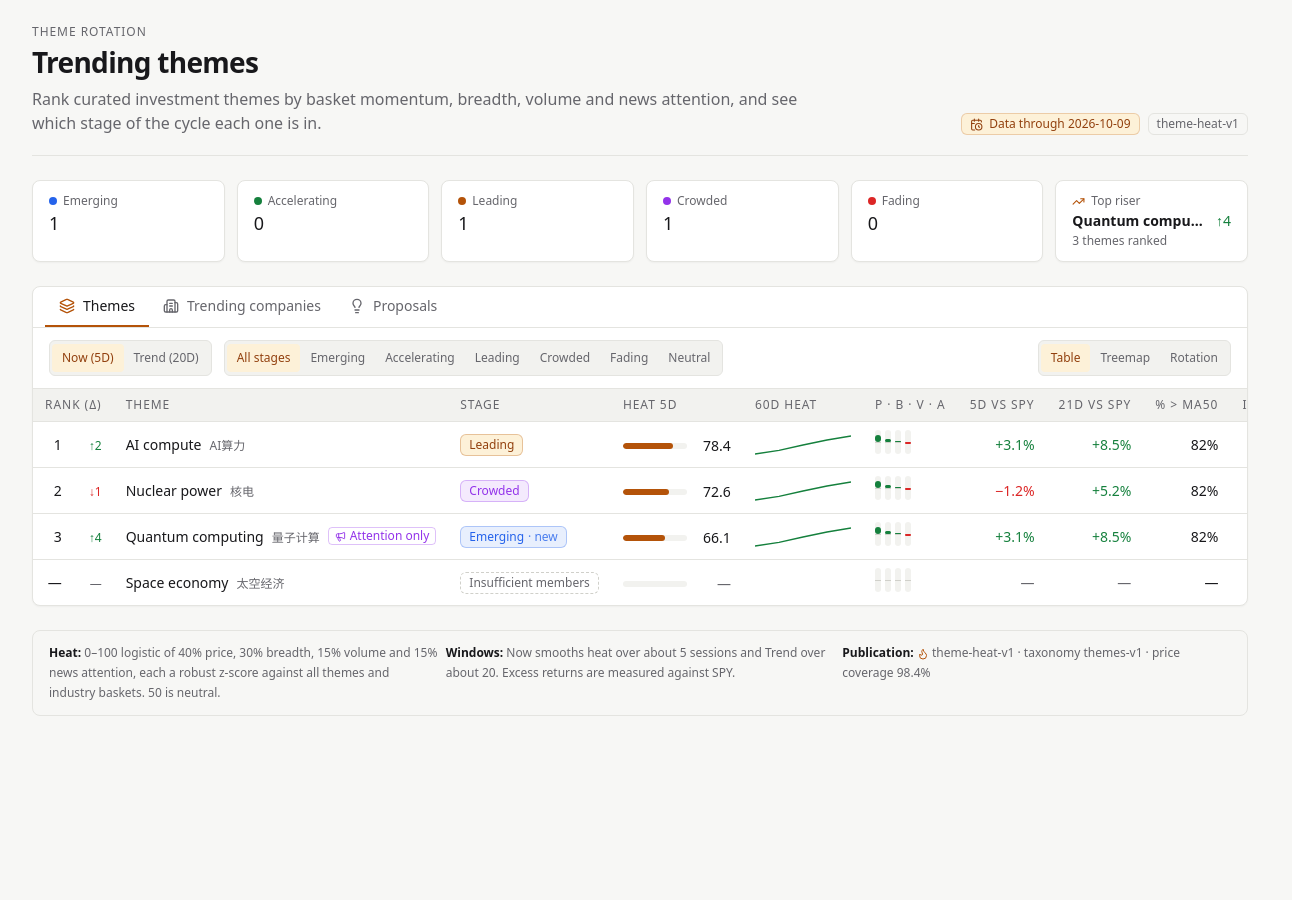
Scenario: ThemesPage › shows a cited headline even when the cluster has more companies than the card lists
Expected: the row "AI compute" is shown, [33,422,1247,468]
Click the tab "Proposals" at (393, 307), box [335,287,451,327]
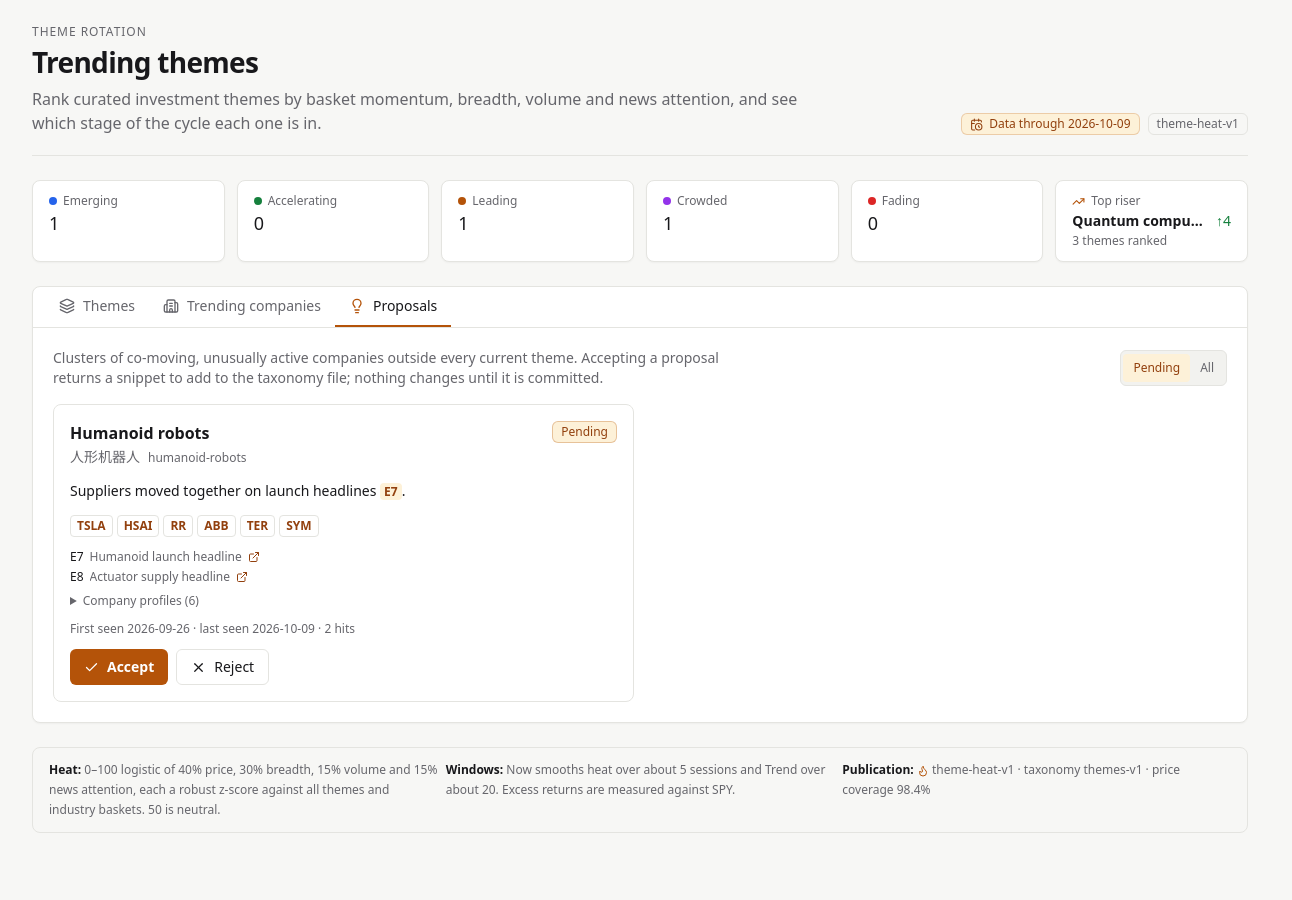
Now the heading "Company profiles (6)" is shown, box [83,592,199,609]
